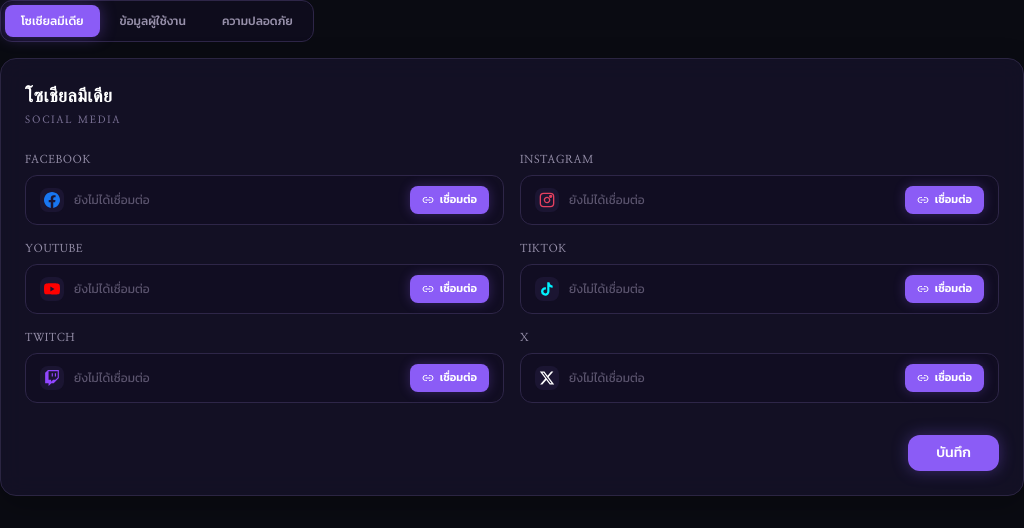
Test: Account Components › AccountTabs › switches between tabs properly
Check: the button "โซเชียลมีเดีย" is shown, box [5,5,100,37]
Click the button "ข้อมูลผู้ใช้งาน".
click(153, 21)  # box [104,5,202,37]
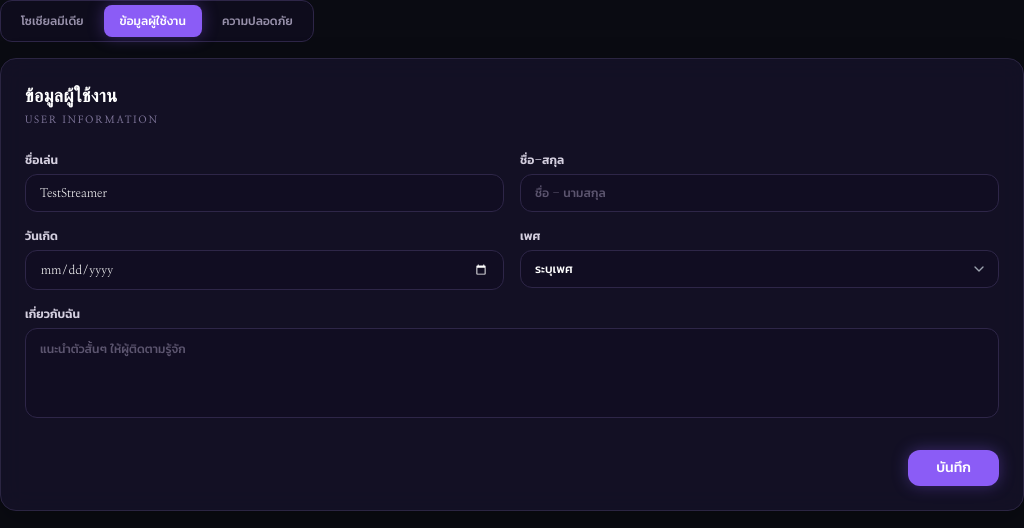
Check: the text "USER INFORMATION" is shown, box [25,115,159,125]
Click the button "ความปลอดภัย".
click(257, 21)  # box [206,5,309,37]
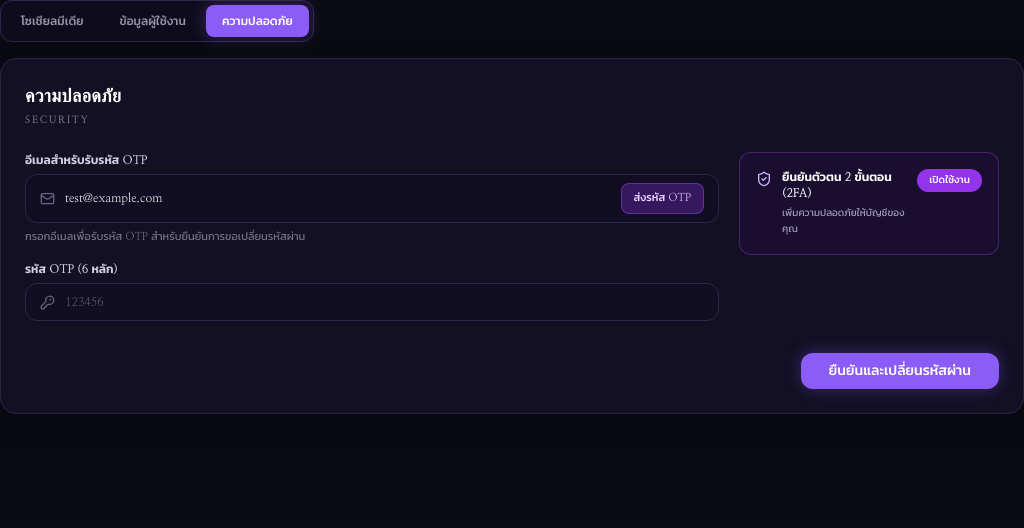
Check: the text "SECURITY" is shown, box [25,115,90,125]
